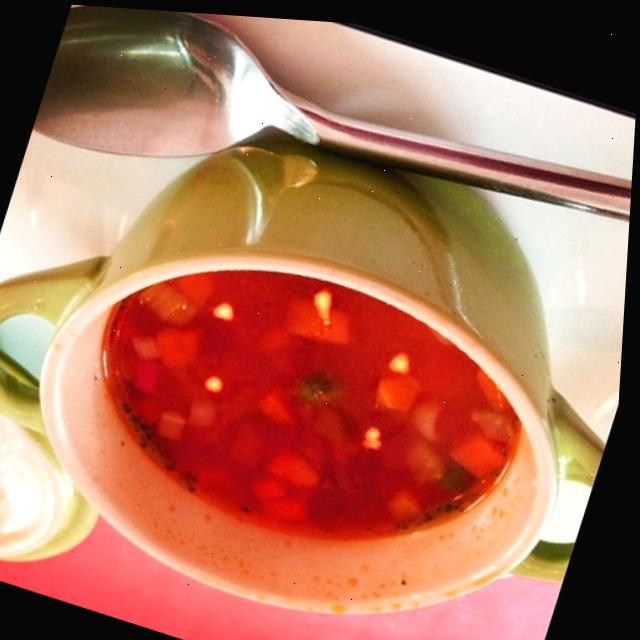汤锅炖物: (334, 131, 635, 580)
